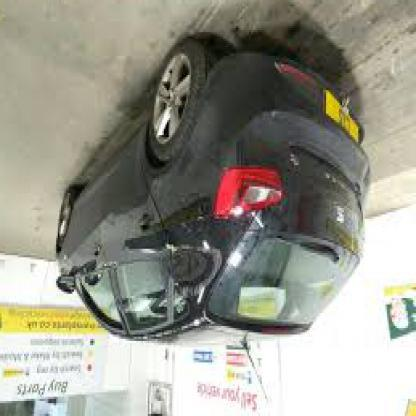dent: (168, 239, 212, 289)
